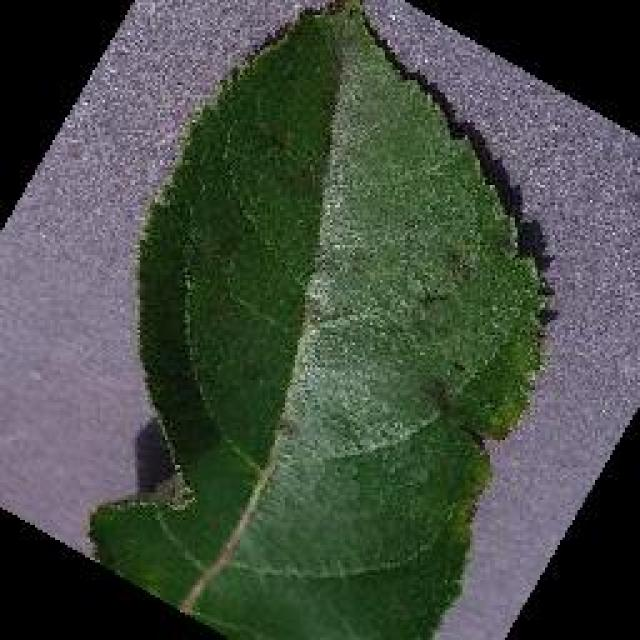Apple___Apple_scab: (85, 0, 555, 638)
